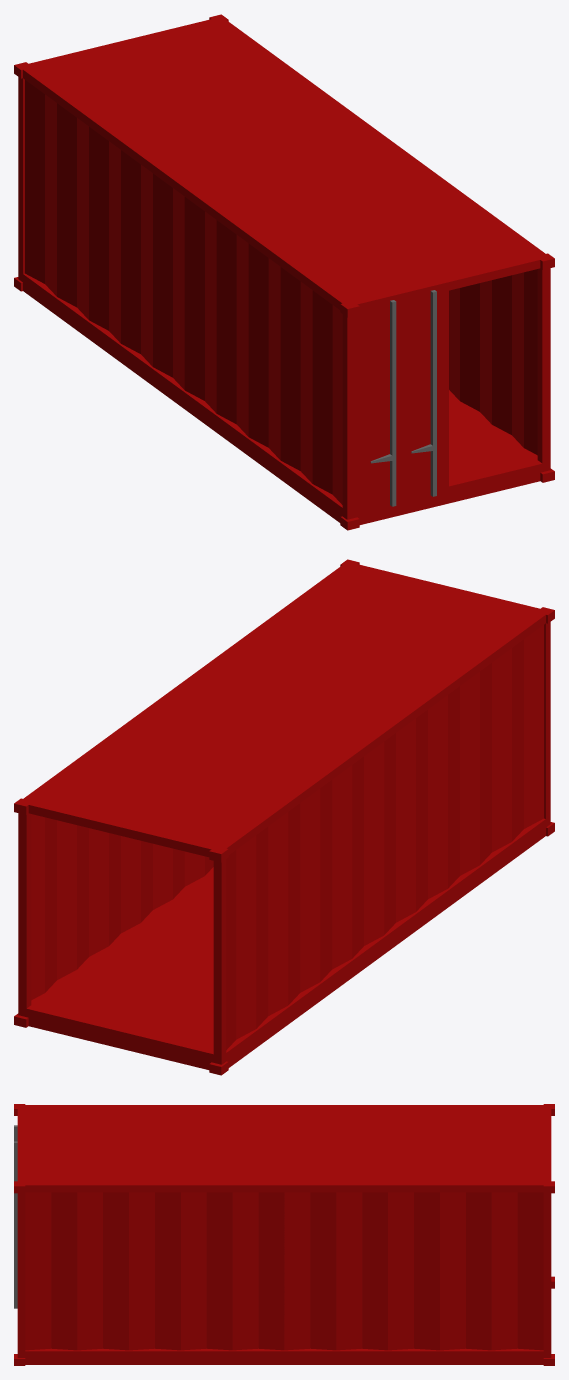
File: Container.fbx
The picture shows the model from 3 angles, top to bottom: view 1: azimuth 30°, elevation 25°; view 2: azimuth 150°, elevation 25°; view 3: azimuth 270°, elevation 25°; orthographic projection. The views are drawn at different scales.
Parts seen in each view (by area): view 1: Container; view 2: Container; view 3: Container.
Boxes of the visible parts, x1=… form: Container: x1=14, y1=14, x2=554, y2=530; Container: x1=14, y1=559, x2=554, y2=1075; Container: x1=14, y1=1104, x2=554, y2=1365.
Bounding box in the file's own units: 255 × 260 × 710.
